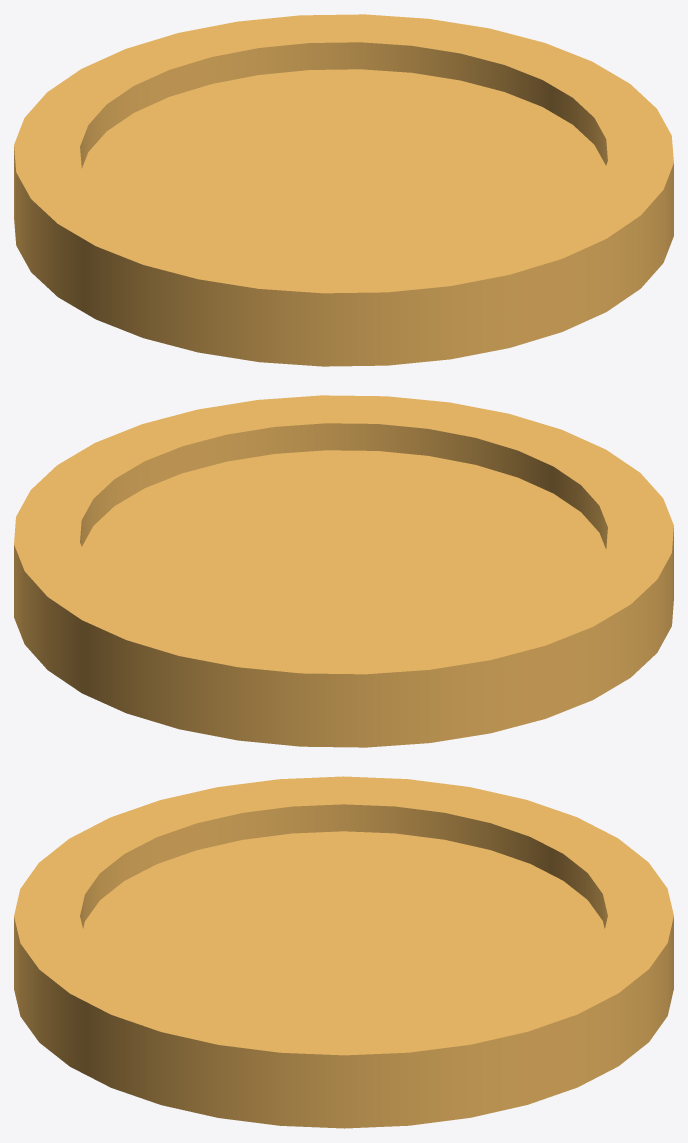
File: coin.fbx
The picture shows the model from 3 angles, top to bottom: view 1: azimuth 30°, elevation 25°; view 2: azimuth 150°, elevation 25°; view 3: azimuth 270°, elevation 25°; orthographic projection.
Visible parts, largest first — view 1: Coin; view 2: Coin; view 3: Coin.
Boxes of the visible parts, x1,y1,x2,y2 form: Coin: (14,14,673,366); Coin: (14,395,673,747); Coin: (14,776,673,1128).
Size of the model in its own units: 0.1911 by 0.0234 by 0.1911.
